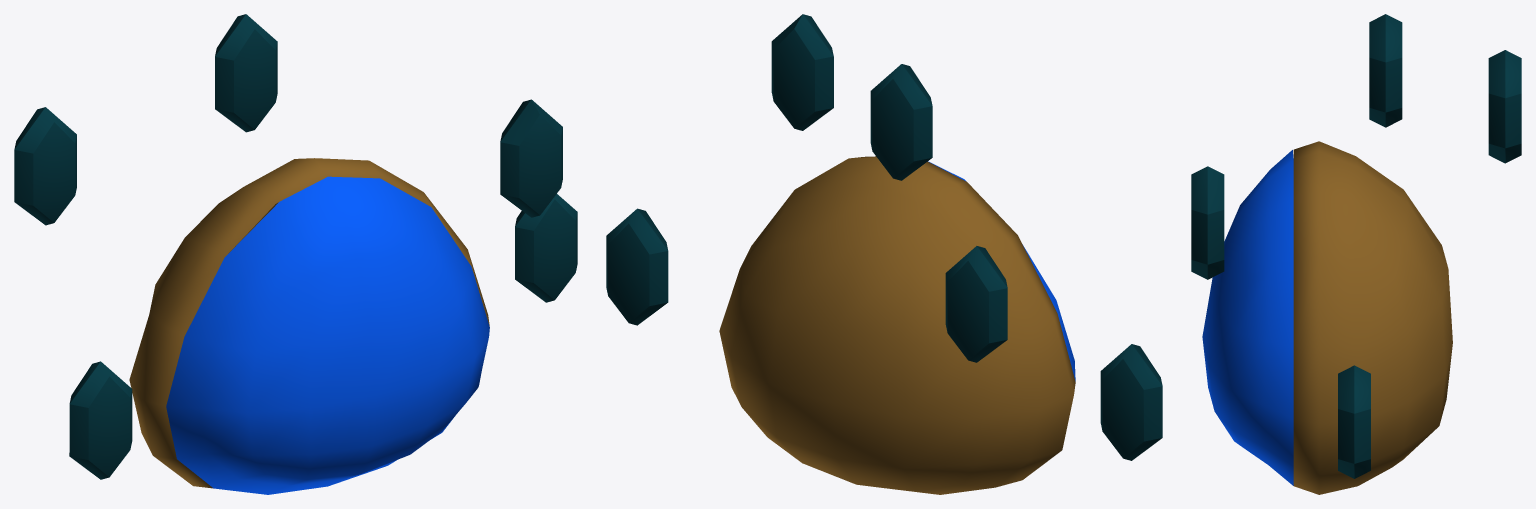
Rendered from unit_ice.fbx.
3 views of the same model, side by side, from view 1: azimuth 30°, elevation 25°; view 2: azimuth 150°, elevation 25°; view 3: azimuth 270°, elevation 25° (orthographic). The views are drawn at different scales.
Parts seen in each view (by area): view 1: Object002, Line005, Line003, Line004, Line002, Line001; view 2: Object002, Line003, Line005, Line004, Line002, Line001; view 3: Object002, Line004, Line002, Line003, Line001.
Boxes of the visible parts, <box> form: Object002: <box>129,158,489,494</box>; Line005: <box>69,361,132,479</box>; Line003: <box>215,14,277,132</box>; Line004: <box>14,107,76,225</box>; Line002: <box>500,99,562,217</box>; Line001: <box>515,194,577,302</box>; Object002: <box>719,156,1075,494</box>; Line003: <box>870,64,932,180</box>; Line005: <box>1100,344,1162,460</box>; Line004: <box>945,246,1007,362</box>; Line002: <box>771,14,833,130</box>; Line001: <box>606,208,668,325</box>; Object002: <box>1202,141,1452,494</box>; Line004: <box>1488,50,1521,163</box>; Line002: <box>1191,166,1224,279</box>; Line003: <box>1369,14,1402,127</box>; Line001: <box>1338,365,1370,478</box>.
Bounding box in the file's own units: 42.31 × 34.1 × 23.57.
